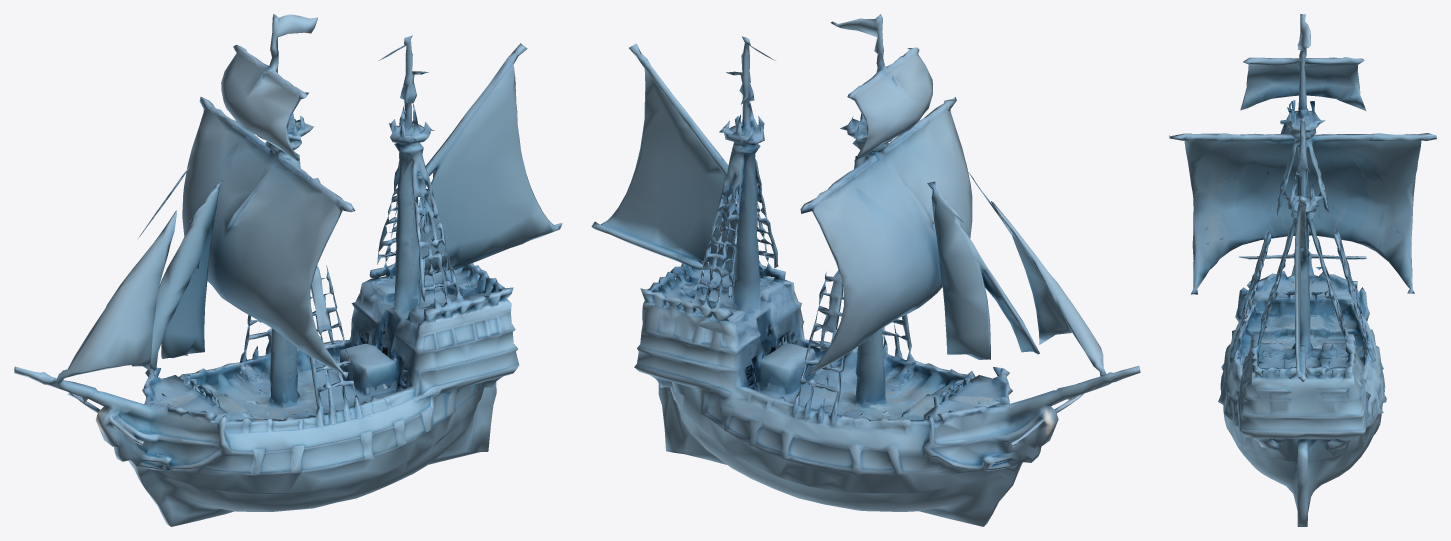
Rendered from medievalShipGhost.fbx.
3 renders of one model, left to right at view 1: azimuth 30°, elevation 25°; view 2: azimuth 150°, elevation 25°; view 3: azimuth 270°, elevation 25°, orthographic. The views are drawn at different scales.
Parts seen in each view (by area): view 1: Mesh1.0; view 2: Mesh1.0; view 3: Mesh1.0.
Part boxes in pixels (x1,y1,x2,y2): Mesh1.0: (14,14,562,526); Mesh1.0: (591,14,1140,526); Mesh1.0: (1169,14,1436,526).
Bounding box in the file's own units: 191 × 162 × 92.9.
Materials: 1 (1 with a texture image).
